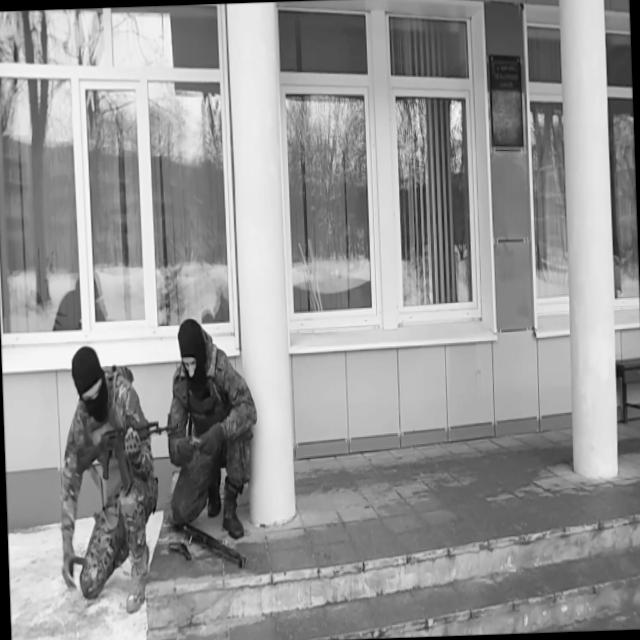gun: (74, 410, 180, 500), (163, 502, 248, 572), (168, 537, 192, 565)
person with a gun: (54, 340, 186, 616), (162, 310, 256, 572)
